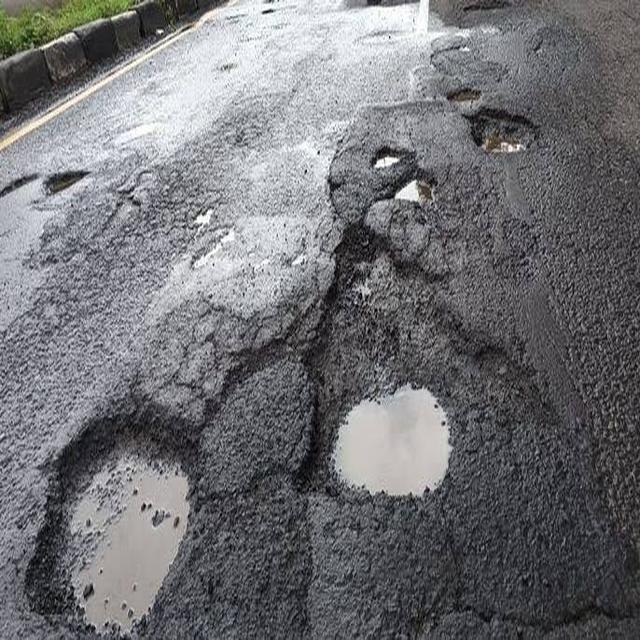Lubang: (36, 410, 197, 639), (314, 360, 461, 493), (467, 109, 538, 162)
